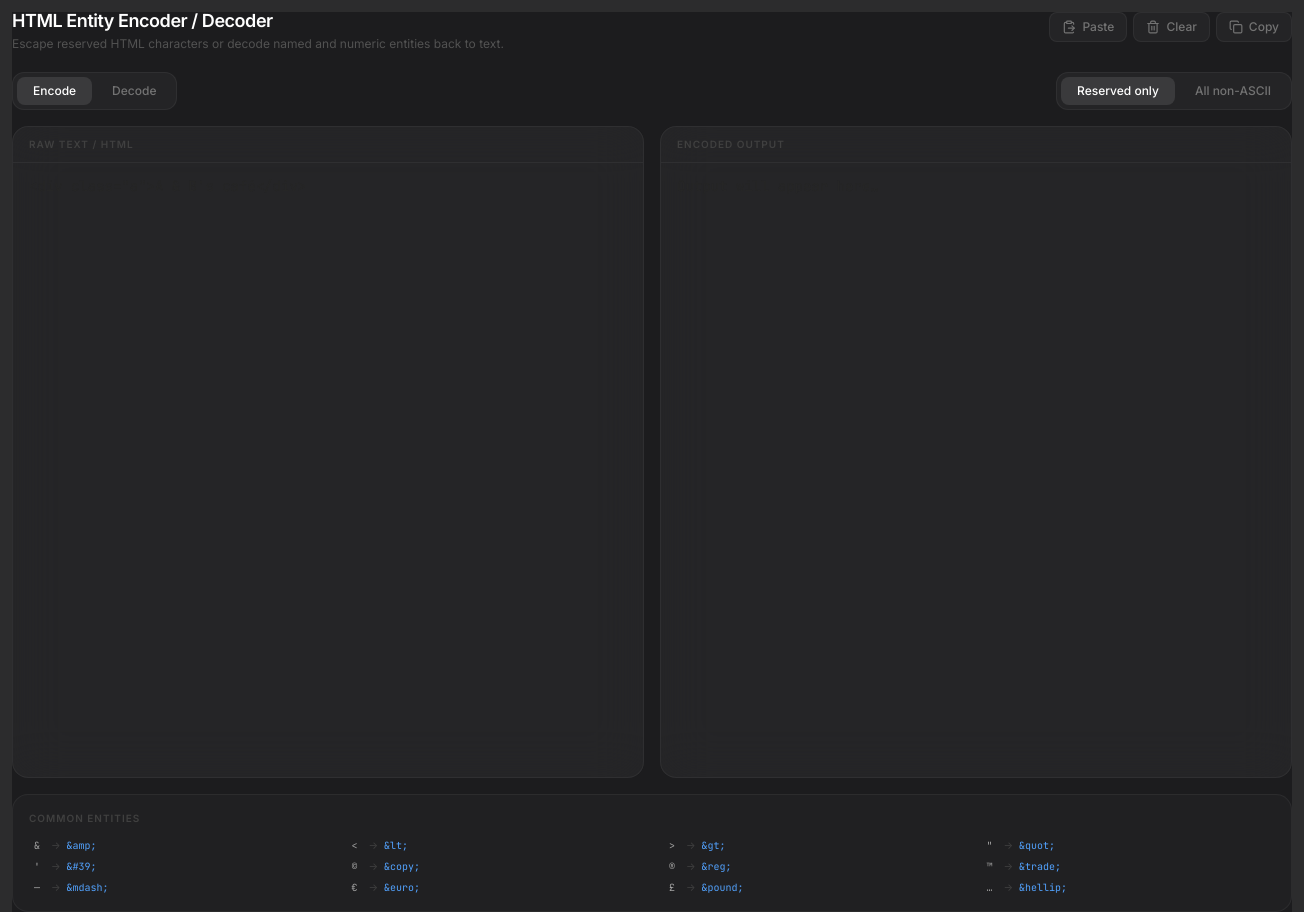
Test case: HtmlEntityCoder › shows the encode-mode toggle only when encoding
The image size is (1304, 912).
Expected: the button "Reserved only" is shown, [1061,77,1175,105]
Click the button "decode" at (134, 91), box [96,77,172,105]
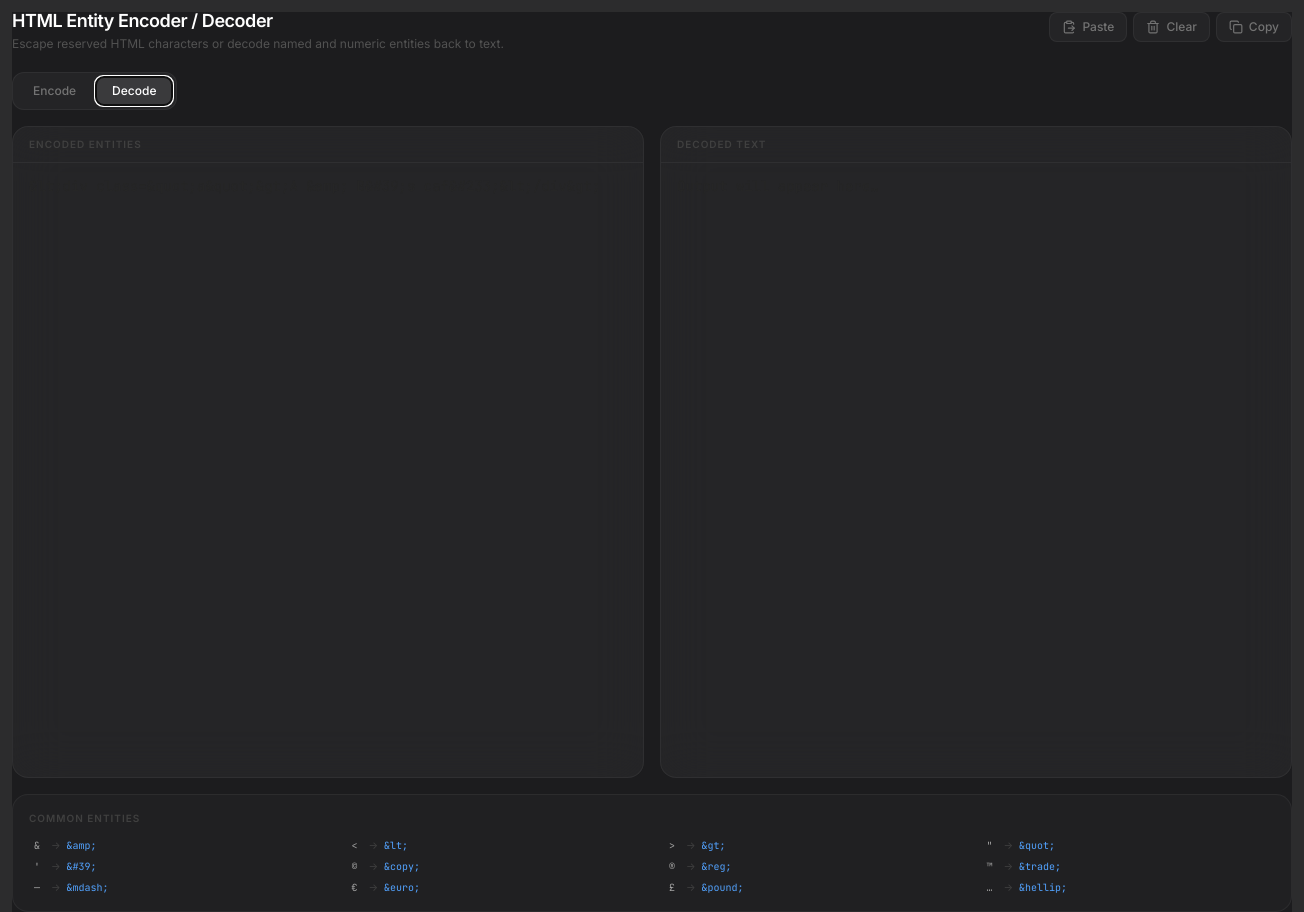
Expected: the button "Reserved only" is gone
